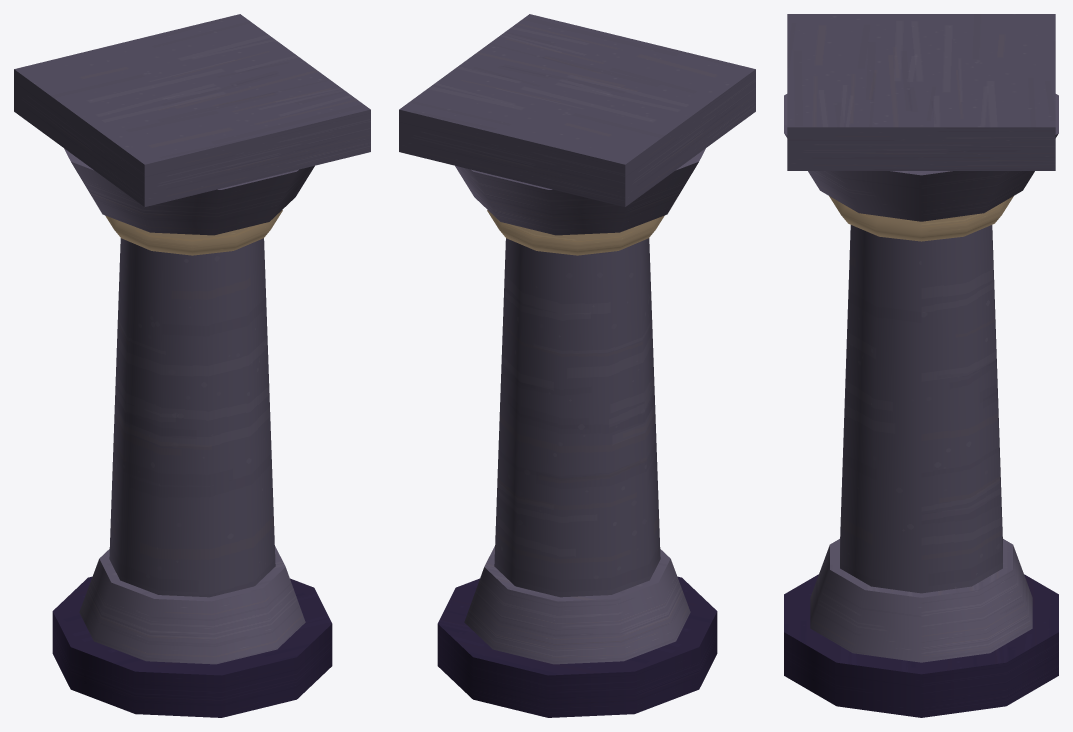
The model's file is module-colonne.glb.
3 views of the same model, side by side, from view 1: azimuth 30°, elevation 25°; view 2: azimuth 150°, elevation 25°; view 3: azimuth 270°, elevation 25° (orthographic). The views are drawn at different scales.
Parts seen in each view (by area): view 1: Fut, Tablette, Plinthe, Base, Chapiteau, Anneau; view 2: Fut, Tablette, Plinthe, Base, Chapiteau, Anneau; view 3: Fut, Tablette, Plinthe, Base, Chapiteau, Anneau.
Part boxes in pixels (<box>): Fut: <box>109,238,275,597</box>; Tablette: <box>14,14,370,206</box>; Plinthe: <box>52,576,332,717</box>; Base: <box>79,546,305,664</box>; Chapiteau: <box>64,148,314,235</box>; Anneau: <box>105,210,282,255</box>; Fut: <box>494,238,660,597</box>; Tablette: <box>399,14,755,206</box>; Plinthe: <box>437,576,717,717</box>; Base: <box>464,546,690,664</box>; Chapiteau: <box>455,148,705,235</box>; Anneau: <box>487,210,664,255</box>; Fut: <box>840,225,1002,593</box>; Tablette: <box>787,14,1055,170</box>; Plinthe: <box>784,574,1058,717</box>; Base: <box>810,539,1032,662</box>; Chapiteau: <box>784,94,1058,221</box>; Anneau: <box>829,196,1013,241</box>.
Bounding box in the file's own units: 0.84 × 1.88 × 0.7989.
4 materials, 4 textured.
